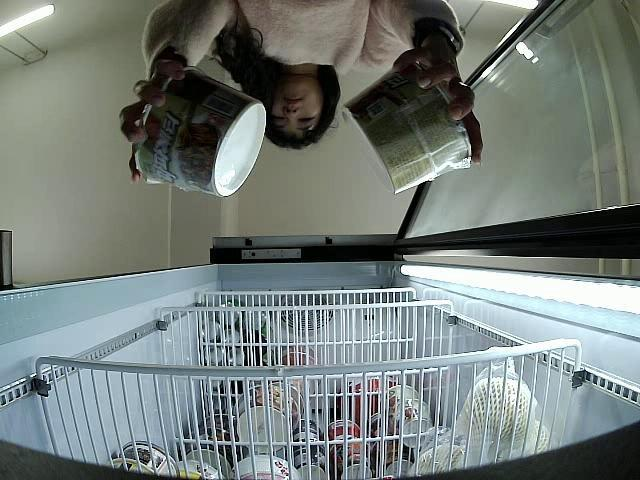03_chapagetti_L: (132, 70, 266, 197), (344, 65, 472, 196)
